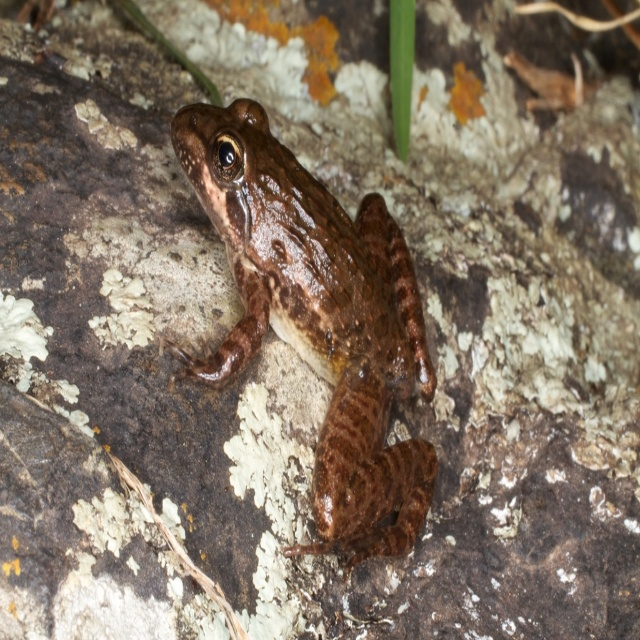Frog: (161, 93, 440, 581)
